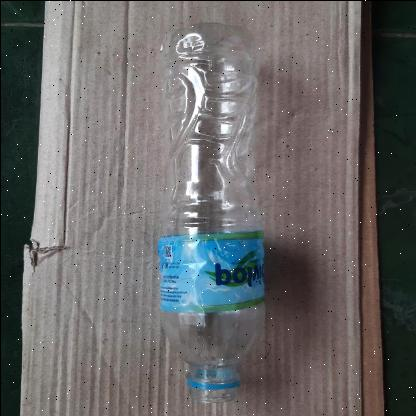Plastic Bottle: (158, 21, 265, 402)
